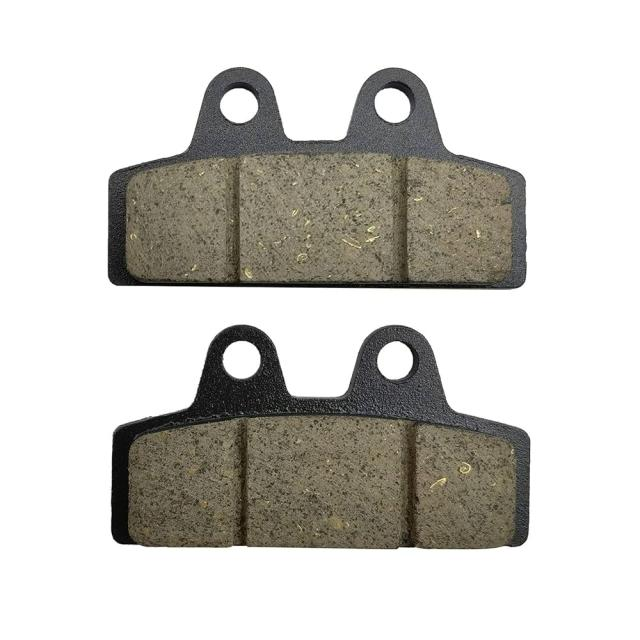brake_pad: (102, 58, 542, 302), (101, 312, 536, 558)
